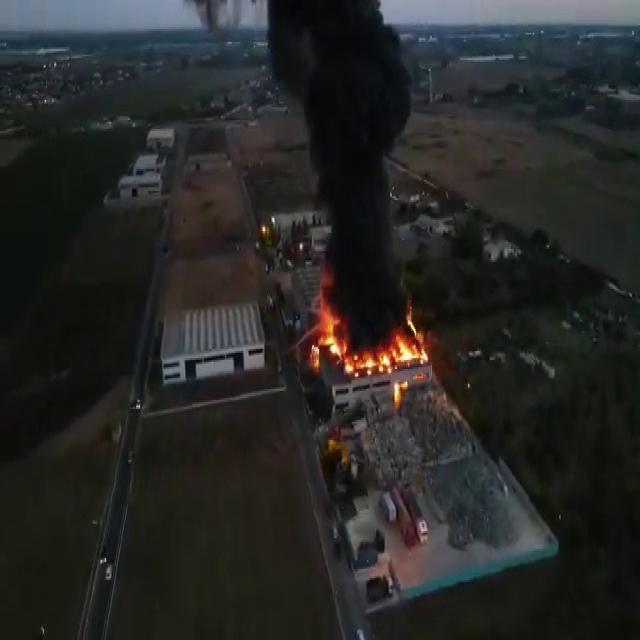Fire: (298, 300, 434, 378)
Smoke: (268, 1, 409, 295)
